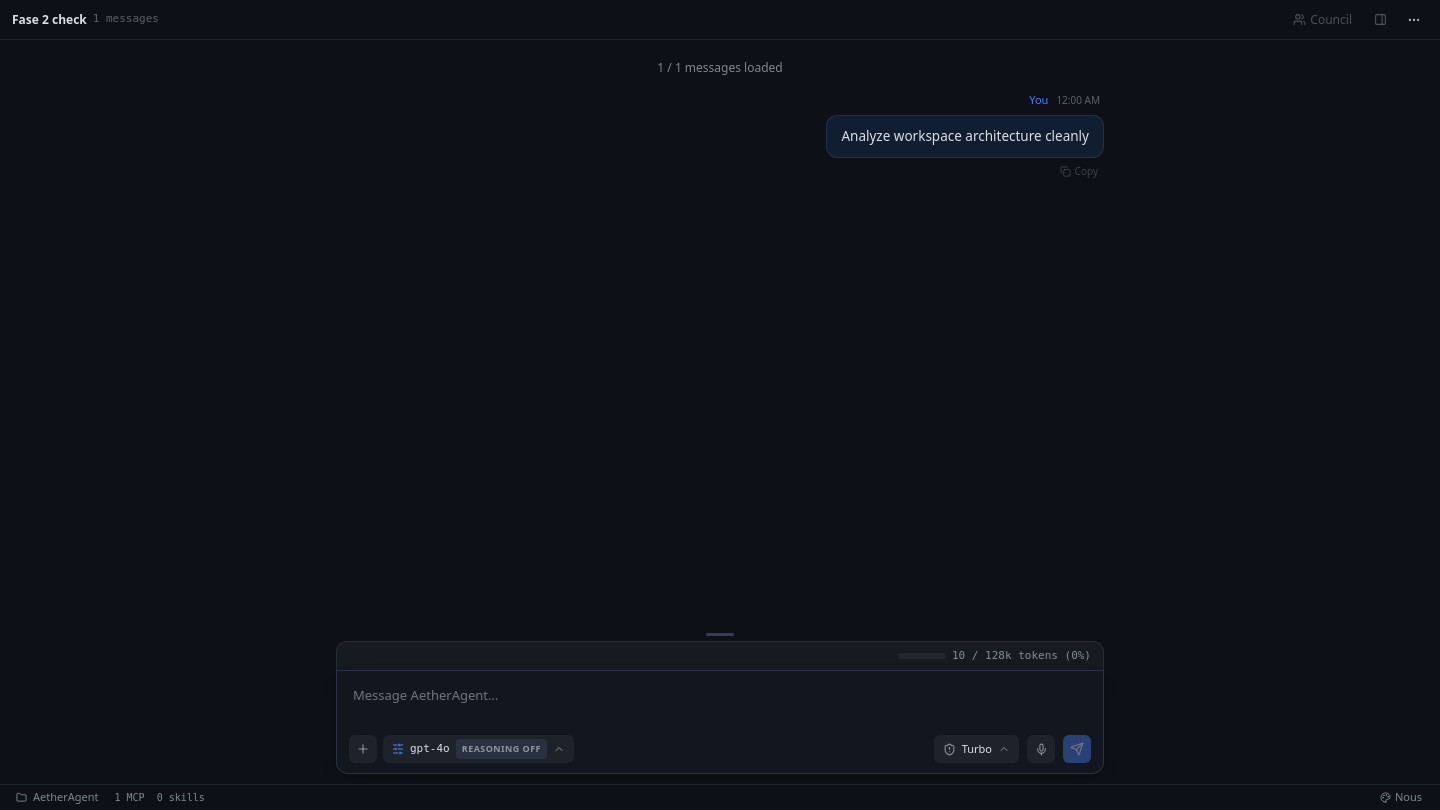
Test: Fase 2 Shell Architecture › toggles the composer-docked Status Stack via the grip ridge and cycles theme from the bottom footer
The width and height of the screenshot is (1440, 810).
expect the element with test id "status-stack-card" is shown: met, box x1=336 y1=641 x2=1104 y2=670
expect the element with test id "context-meter" is shown: met, box x1=898 y1=648 x2=1091 y2=664
Click the button with test id "status-stack-grip" at (720,634), box x1=680 y1=627 x2=760 y2=641
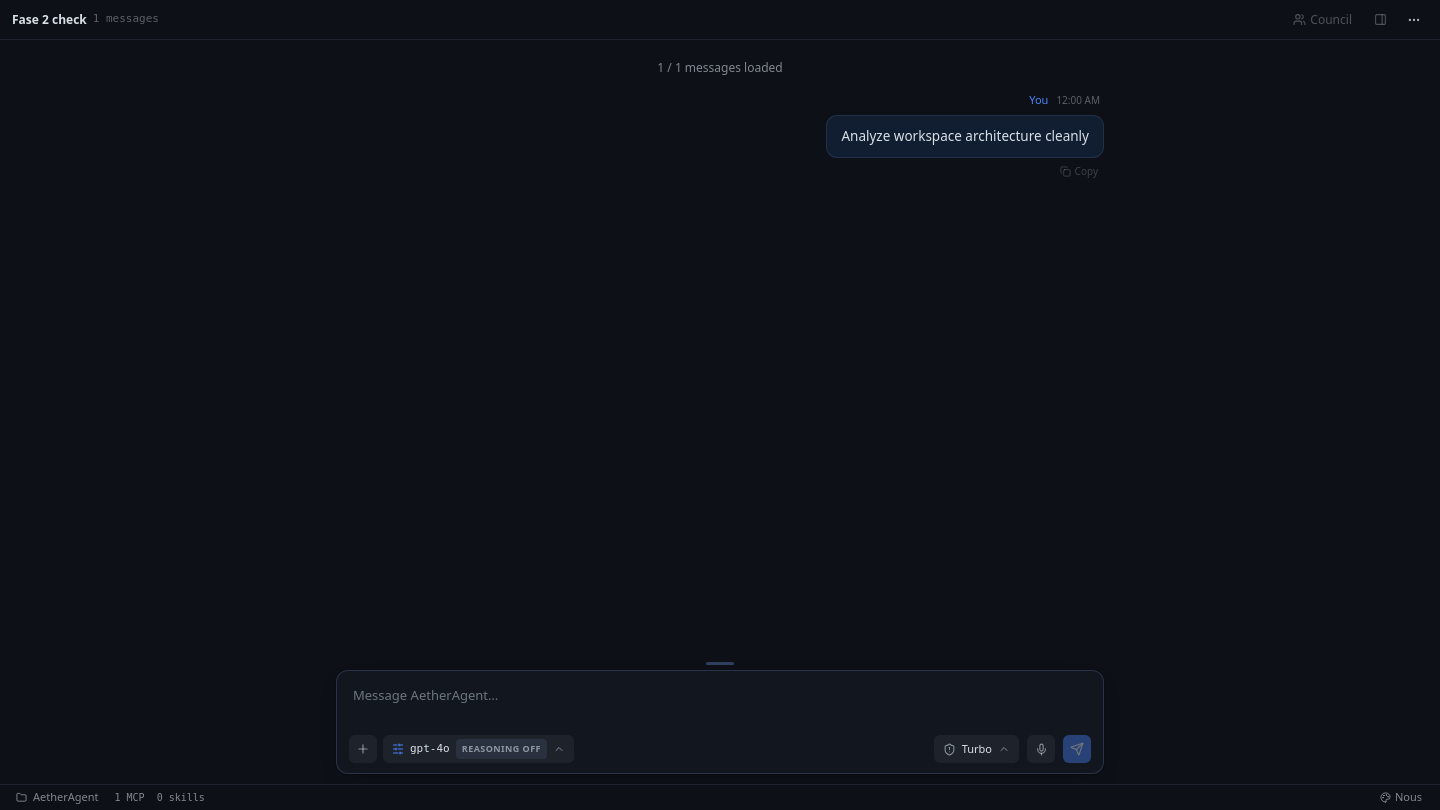
expect the button with test id "status-stack-grip" is collapsed: met
expect the element with test id "status-stack-card" is gone: met
expect the element with test id "context-meter" is gone: met
Click the button with test id "status-stack-grip" at (720,663), box x1=680 y1=656 x2=760 y2=670
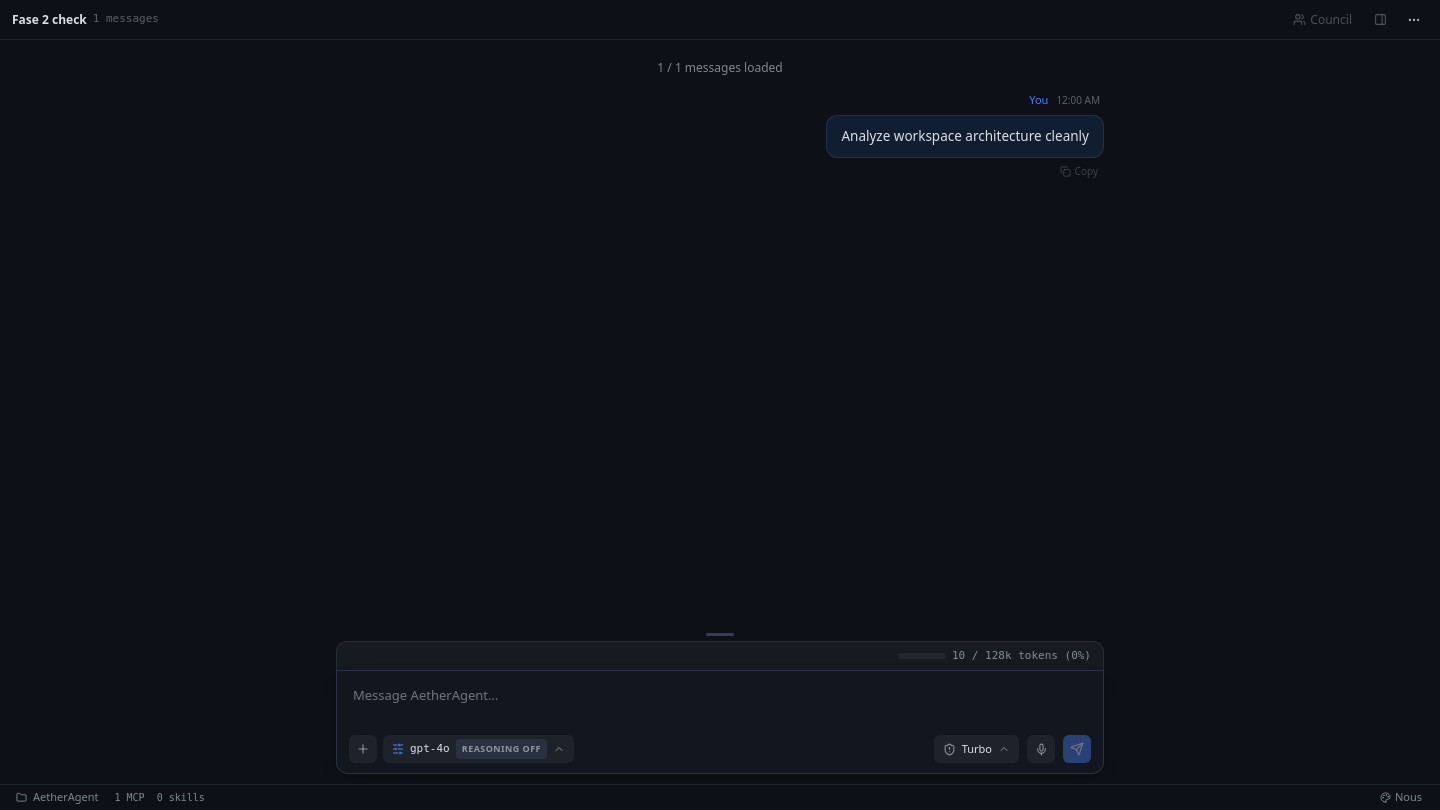
expect the footer with test id "workspace-status-bar" shows "AetherAgent": met, box x1=12 y1=787 x2=102 y2=808
expect the button with test id "status-stack-grip" is expanded: met, box x1=680 y1=627 x2=760 y2=641
expect the element with test id "context-meter" is shown: met, box x1=898 y1=648 x2=1091 y2=664
Click the button with aria-label "Cycle color skin" at (1401,798), box x1=1374 y1=787 x2=1428 y2=808
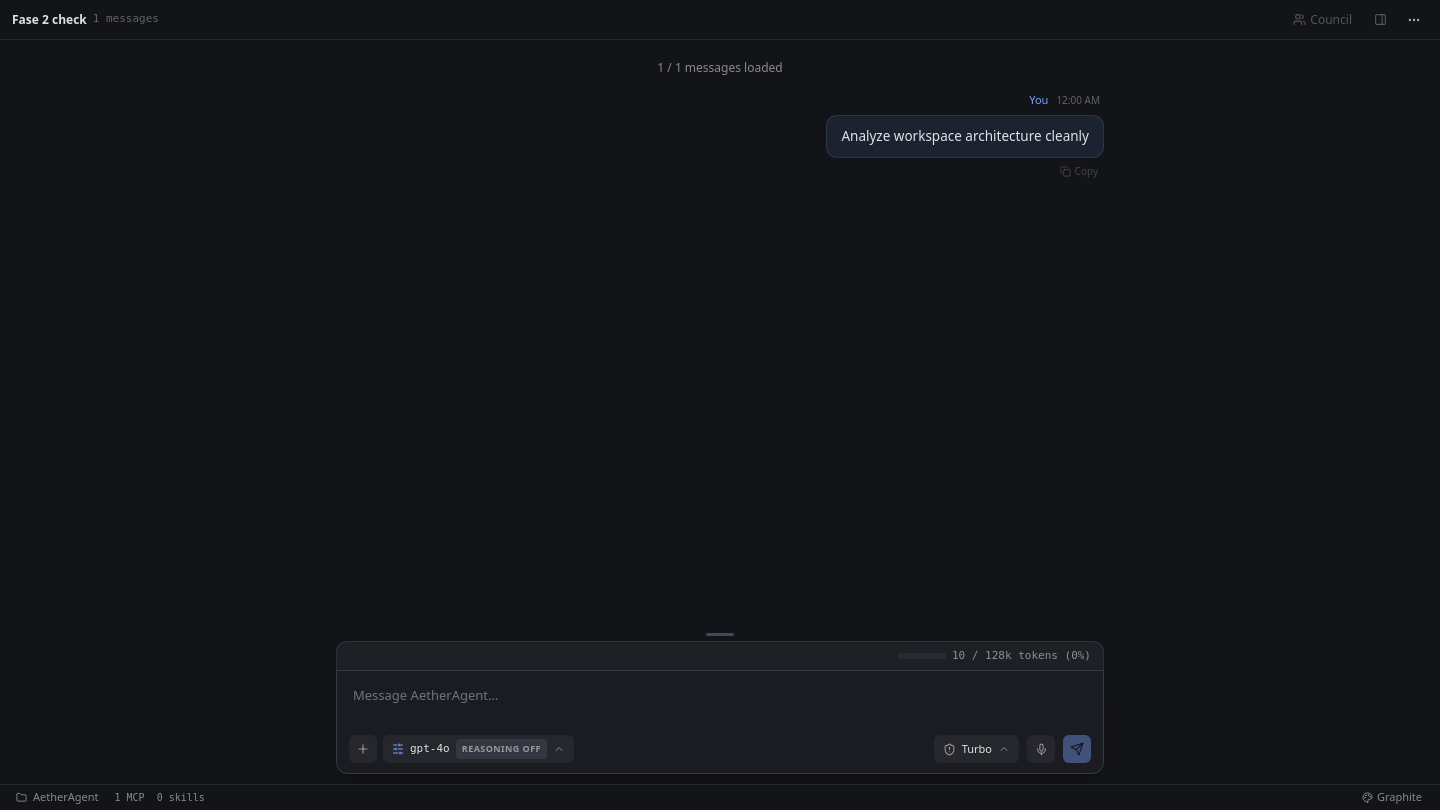
expect the button with aria-label "Cycle color skin" reads "Graphite": met, box x1=1356 y1=787 x2=1428 y2=808
